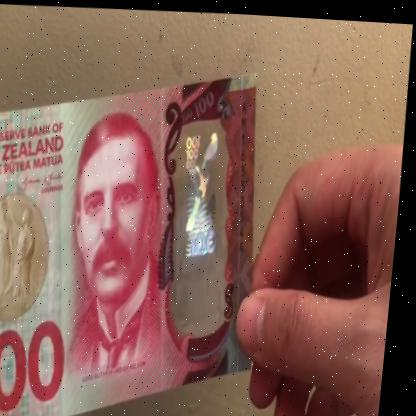100F: (172, 124, 236, 304)
